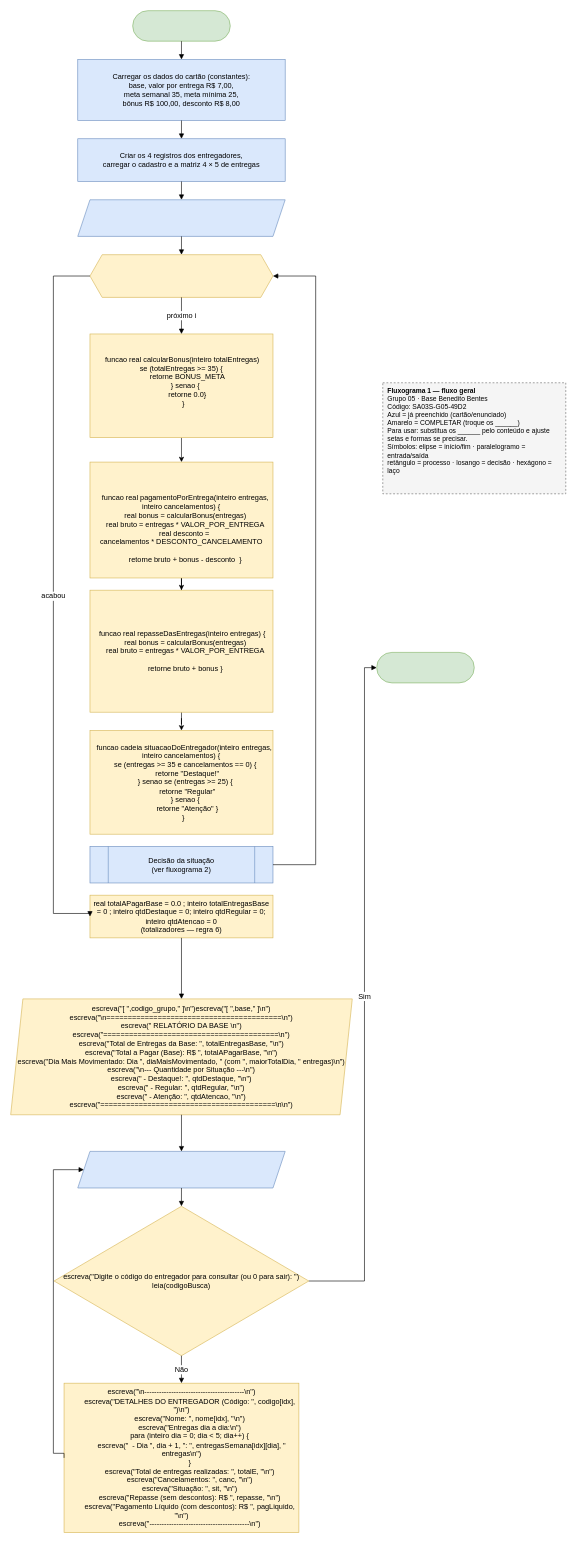
This 576x1543 diagram has some shape labels left out. The shapes that lost their labels are listed below. From the top down, each one's box as (x1, y1, x2, y2) in pixels, then its label:
(132, 10, 230, 41): Início
(77, 199, 285, 236): Exibir o código de autenticidade SA03S-G05-49D2
(89, 254, 273, 297): PARA cada entregador (i = __0__ até _3_)
(376, 652, 474, 683): Fim
(77, 1151, 285, 1188): Ler o código do entregador (teclado)
